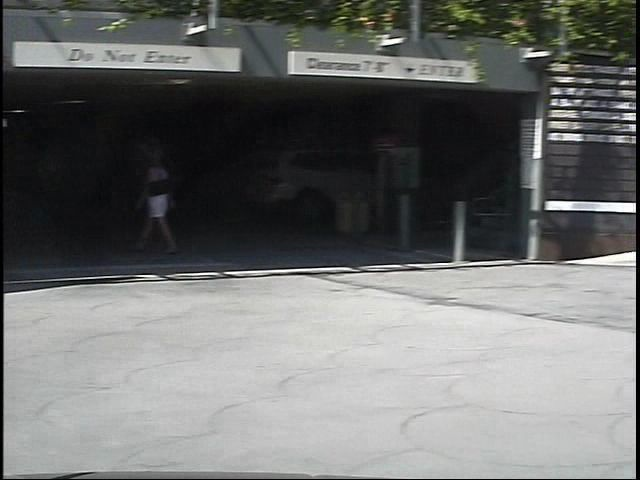person: (119, 147, 170, 267)
